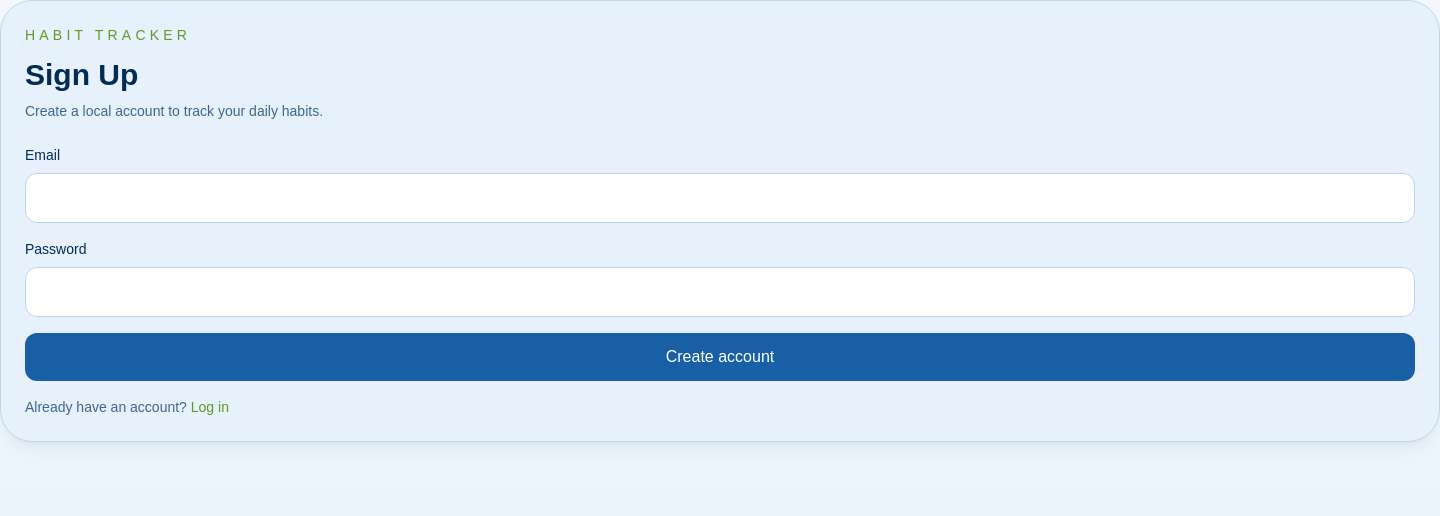
Test: auth flow › shows an error for duplicate signup email
Type "dupe@example.com" into the field with test id "auth-signup-email" at (720, 198), box x1=25 y1=173 x2=1415 y2=223
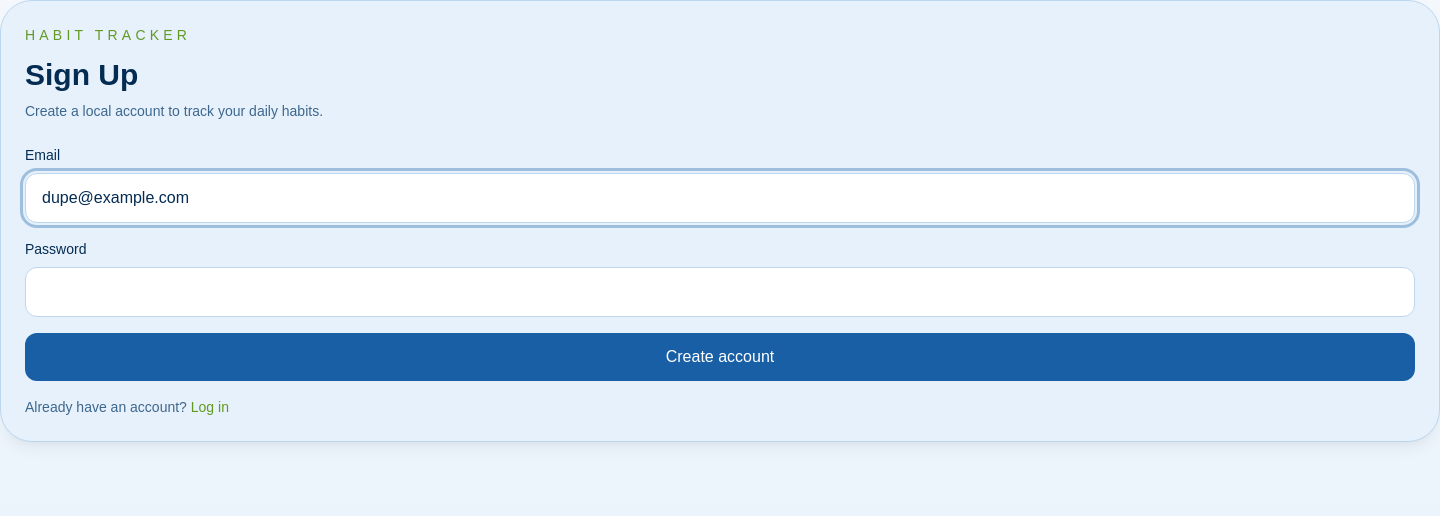
Type "password123" into the password field with test id "auth-signup-password" at (720, 292), box x1=25 y1=267 x2=1415 y2=317
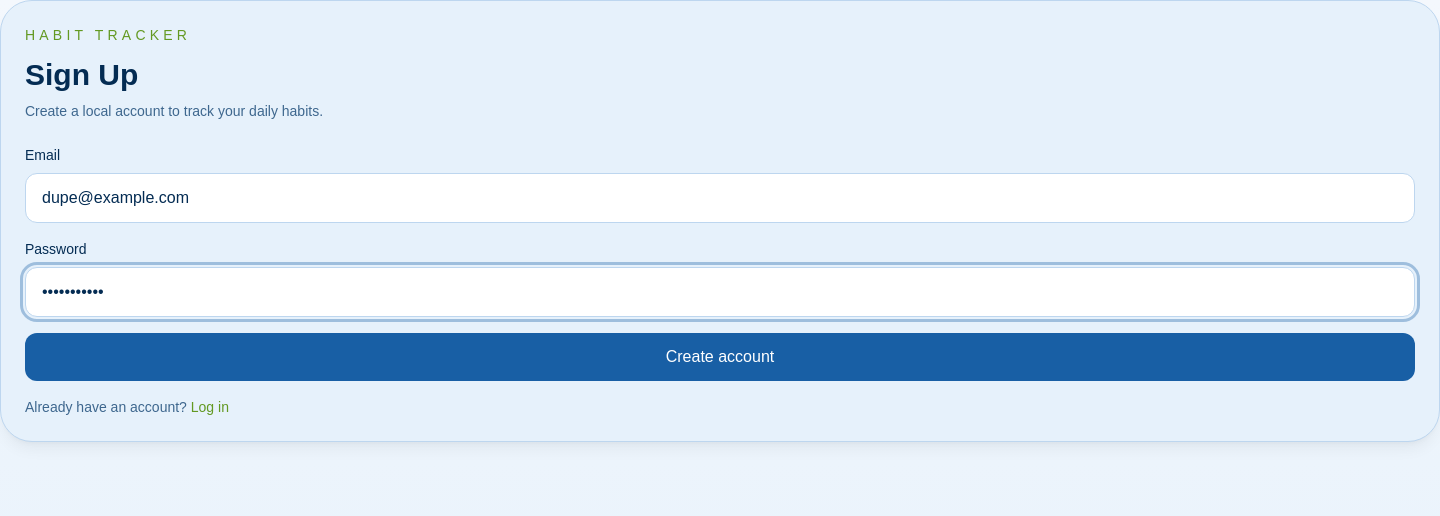
Click the button with test id "auth-signup-submit" at (720, 357), box x1=25 y1=333 x2=1415 y2=381
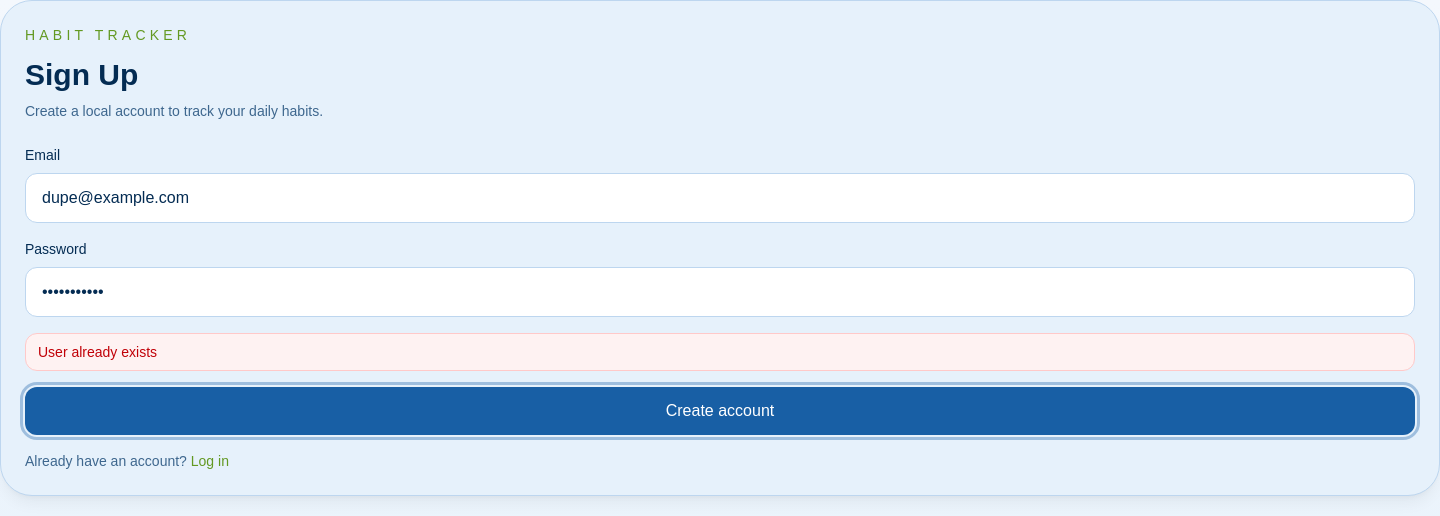
Check: the text "User already exists" is shown, box x1=25 y1=333 x2=1415 y2=371
